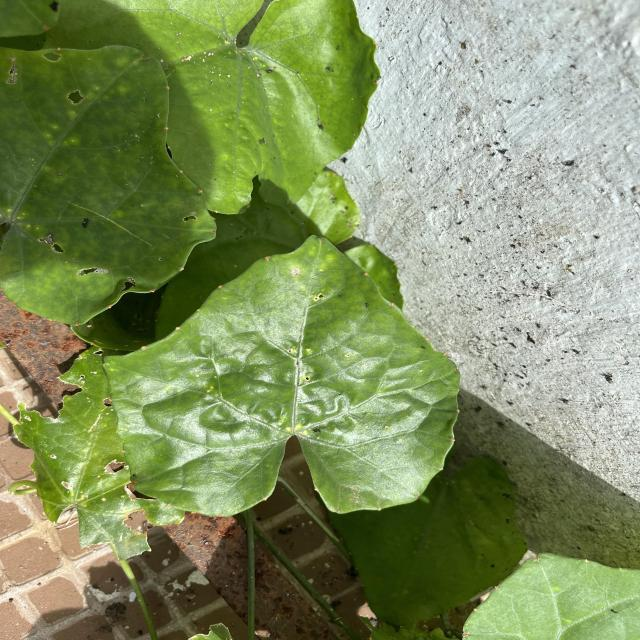Coccinia grandis: (96, 229, 470, 520)
